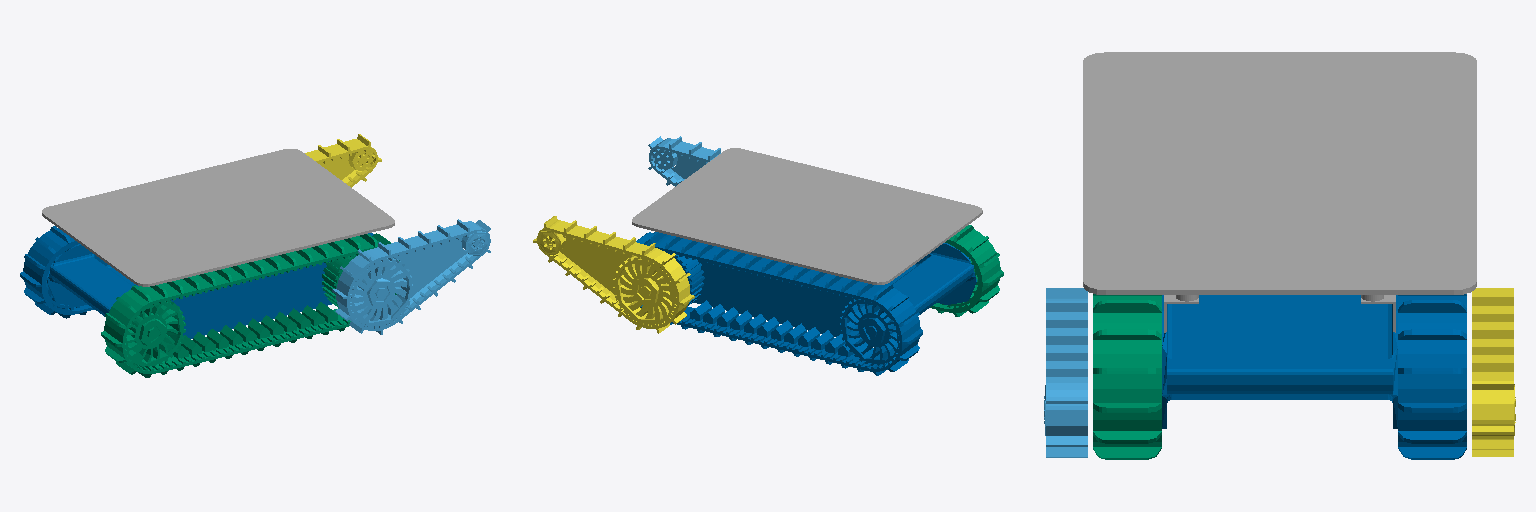
--- Render facts (derived) ---
3 views of the same robot in one strip: view 1: azimuth 30°, elevation 25°; view 2: azimuth 150°, elevation 25°; view 3: azimuth 270°, elevation 25° (orthographic).
Model GVR_Bot_RPLIDAR_Navigation_1 with 29 links and 28 joints (20 revolute, 8 fixed), rooted at base_link, posed every joint at zero.
Links seen in each view (by area): view 1: plexiglass_platform_0, gvr_bot_tread_22Z_0, gvr_bot_flipper_4Z_0, gvr_bot_body_0, gvr_bot_tread_13Z_0, gvr_bot_flipper_9Z_0; view 2: plexiglass_platform_0, gvr_bot_tread_13Z_0, gvr_bot_flipper_9Z_0, gvr_bot_body_0, gvr_bot_tread_22Z_0, gvr_bot_flipper_4Z_0; view 3: plexiglass_platform_0, gvr_bot_body_0, gvr_bot_tread_22Z_0, gvr_bot_tread_13Z_0, gvr_bot_flipper_4Z_0, gvr_bot_flipper_9Z_0.
Boxes of the visible links, x1,y1,x2,y2 form: plexiglass_platform_0: (42,149,394,286); gvr_bot_tread_22Z_0: (101,233,399,377); gvr_bot_flipper_4Z_0: (332,219,490,334); gvr_bot_body_0: (47,233,373,338); gvr_bot_tread_13Z_0: (20,226,94,318); gvr_bot_flipper_9Z_0: (305,134,381,187); plexiglass_platform_0: (632,148,982,284); gvr_bot_tread_13Z_0: (636,232,922,375); gvr_bot_flipper_9Z_0: (533,216,694,333); gvr_bot_body_0: (653,232,976,336); gvr_bot_tread_22Z_0: (930,225,1003,316); gvr_bot_flipper_4Z_0: (648,136,720,186); plexiglass_platform_0: (1083,52,1476,332); gvr_bot_body_0: (1162,295,1397,428); gvr_bot_tread_22Z_0: (1093,294,1161,459); gvr_bot_tread_13Z_0: (1398,294,1466,459); gvr_bot_flipper_4Z_0: (1044,288,1087,457); gvr_bot_flipper_9Z_0: (1472,288,1515,456).
Size in the robot's own frame: 0.8604 by 0.5081 by 0.2232 metres.
Meshes: 7 distinct files referenced, 6 mesh visuals loaded (6 binary STL); not drawn: 1 (reference not matched to a file when rendering).

robot.urdf — GVR_Bot_RPLIDAR_Navigation_1:
<?xml version="1.0" ?>
<robot name="GVR_Bot_RPLIDAR_Navigation_1">
  <joint name="base_link_to_gvr_bot_body_0" type="fixed">
    <parent link="base_link"/>
    <child link="gvr_bot_body_0"/>
  </joint>
  <joint name="gvr_bot_body_0_to_gvr_bot_flipper_9Z_0" type="fixed">
    <parent link="gvr_bot_body_0"/>
    <child link="gvr_bot_flipper_9Z_0"/>
    <origin rpy="1.93641940572 -4.62708953561e-14 1.57079632679" xyz="0.239 0.20706 0.0574455082287"/>
  </joint>
  <joint name="left1" type="revolute">
    <parent link="gvr_bot_flipper_9Z_0"/>
    <child link="rotational_cylinder_7Z_0"/>
    <origin rpy="-1.57079632679 0.943373860071 -1.57079632679" xyz="-3.40185110086e-15 0.13695163932 0.188853395724"/>
    <axis xyz="4.16719145039e-14 1.08266207812e-13 1.0"/>
    <dynamics damping="0" friction="0"/>
    <limit effort="200" lower="-2.14e9" upper="+2.14e9" velocity="100"/>
  </joint>
  <gazebo reference="left1">
    <implicitSpringDamper>True</implicitSpringDamper>
  </gazebo>
  <joint name="left4" type="revolute">
    <parent link="gvr_bot_flipper_9Z_0"/>
    <child link="rotational_cylinder_10Z_0"/>
    <origin rpy="-1.57079632679 0.943373860071 -1.57079632679" xyz="1.56319401867e-15 1.30332441096e-15 3.83606282885e-16"/>
    <axis xyz="2.10494321936e-14 5.34546963746e-14 1.0"/>
    <dynamics damping="0" friction="0"/>
    <limit effort="200" lower="-2.14e9" upper="+2.14e9" velocity="100"/>
  </joint>
  <gazebo reference="left4">
    <implicitSpringDamper>True</implicitSpringDamper>
  </gazebo>
  <joint name="left2" type="revolute">
    <parent link="gvr_bot_flipper_9Z_0"/>
    <child link="rotational_cylinder_6Z_0"/>
    <origin rpy="-1.57079632679 0.943373860071 -1.57079632679" xyz="-1.83632318499e-15 0.0937159856132 0.129232349496"/>
    <axis xyz="2.1233334186e-14 5.27683647955e-14 1.0"/>
    <dynamics damping="0" friction="0"/>
    <limit effort="200" lower="-2.14e9" upper="+2.14e9" velocity="100"/>
  </joint>
  <gazebo reference="left2">
    <implicitSpringDamper>True</implicitSpringDamper>
  </gazebo>
  <joint name="left3" type="revolute">
    <parent link="gvr_bot_flipper_9Z_0"/>
    <child link="rotational_cylinder_8Z_0"/>
    <origin rpy="-1.57079632679 0.943373860071 -1.57079632679" xyz="-1.42948459957e-16 0.0467498321858 0.0644670235538"/>
    <axis xyz="2.67239868192e-14 5.42395807345e-14 1.0"/>
    <dynamics damping="0" friction="0"/>
    <limit effort="200" lower="-2.14e9" upper="+2.14e9" velocity="100"/>
  </joint>
  <gazebo reference="left3">
    <implicitSpringDamper>True</implicitSpringDamper>
  </gazebo>
  <joint name="gvr_bot_body_0_to_gvr_bot_flipper_4Z_0" type="fixed">
    <parent link="gvr_bot_body_0"/>
    <child link="gvr_bot_flipper_4Z_0"/>
    <origin rpy="-0.681574472272 5.72650988307e-14 -1.57079632679" xyz="0.239 -0.20706 0.0574455082287"/>
  </joint>
  <joint name="right1" type="revolute">
    <parent link="gvr_bot_flipper_4Z_0"/>
    <child link="rotational_cylinder_2Z_0"/>
    <origin rpy="1.57079632679 0.943373860071 -1.57079632679" xyz="2.09154302387e-16 0.13695163932 0.188853395724"/>
    <axis xyz="-3.96031540416e-14 1.04018677886e-13 1.0"/>
    <dynamics damping="0" friction="0"/>
    <limit effort="200" lower="-2.14e9" upper="+2.14e9" velocity="100"/>
  </joint>
  <gazebo reference="right1">
    <implicitSpringDamper>True</implicitSpringDamper>
  </gazebo>
  <joint name="right3" type="revolute">
    <parent link="gvr_bot_flipper_4Z_0"/>
    <child link="rotational_cylinder_5Z_0"/>
    <origin rpy="1.57079632679 0.943373860071 -1.57079632679" xyz="3.46428265799e-15 0.0467498321858 0.0644670235538"/>
    <axis xyz="-2.05037539727e-14 5.47013569674e-14 1.0"/>
    <dynamics damping="0" friction="0"/>
    <limit effort="200" lower="-2.14e9" upper="+2.14e9" velocity="100"/>
  </joint>
  <gazebo reference="right3">
    <implicitSpringDamper>True</implicitSpringDamper>
  </gazebo>
  <joint name="right2" type="revolute">
    <parent link="gvr_bot_flipper_4Z_0"/>
    <child link="rotational_cylinder_1Z_0"/>
    <origin rpy="1.57079632679 0.943373860071 -1.57079632679" xyz="1.78712941076e-15 0.0937159856132 0.129232349496"/>
    <axis xyz="-2.56266026212e-14 5.18574778701e-14 1.0"/>
    <dynamics damping="0" friction="0"/>
    <limit effort="200" lower="-2.14e9" upper="+2.14e9" velocity="100"/>
  </joint>
  <gazebo reference="right2">
    <implicitSpringDamper>True</implicitSpringDamper>
  </gazebo>
  <joint name="right4" type="revolute">
    <parent link="gvr_bot_flipper_4Z_0"/>
    <child link="rotational_cylinder_3Z_0"/>
    <origin rpy="1.57079632679 0.943373860071 -1.57079632679" xyz="5.17275111633e-15 9.51947774283e-16 -9.47842953022e-16"/>
    <axis xyz="-2.28812763046e-14 5.25930858396e-14 1.0"/>
    <dynamics damping="0" friction="0"/>
    <limit effort="200" lower="-2.14e9" upper="+2.14e9" velocity="100"/>
  </joint>
  <gazebo reference="right4">
    <implicitSpringDamper>True</implicitSpringDamper>
  </gazebo>
  <joint name="gvr_bot_body_0_to_gvr_bot_tread_13Z_0" type="fixed">
    <parent link="gvr_bot_body_0"/>
    <child link="gvr_bot_tread_13Z_0"/>
    <origin rpy="1.57079632679 -0.0 1.57079632679" xyz="-0.01 0.12706 0.0625"/>
  </joint>
  <joint name="left8" type="revolute">
    <parent link="gvr_bot_tread_13Z_0"/>
    <child link="rotational_cylinder_14Z_0"/>
    <origin rpy="-3.14159265359 -1.57079632679 0.0" xyz="-1.42108547152e-17 0.0 8.70163887006e-34"/>
    <axis xyz="-6.12323399574e-17 -3.74939945665e-33 1.0"/>
    <dynamics damping="0" friction="0"/>
    <limit effort="200" lower="-2.14e9" upper="+2.14e9" velocity="100"/>
  </joint>
  <gazebo reference="left8">
    <implicitSpringDamper>True</implicitSpringDamper>
  </gazebo>
  <joint name="left6" type="revolute">
    <parent link="gvr_bot_tread_13Z_0"/>
    <child link="rotational_cylinder_11Z_0"/>
    <origin rpy="-3.14159265359 -1.57079632679 0.0" xyz="-1.42108547152e-17 -0.005 0.1"/>
    <axis xyz="-6.12323399574e-17 -3.74939945665e-33 1.0"/>
    <dynamics damping="0" friction="0"/>
    <limit effort="200" lower="-2.14e9" upper="+2.14e9" velocity="100"/>
  </joint>
  <gazebo reference="left6">
    <implicitSpringDamper>True</implicitSpringDamper>
  </gazebo>
  <joint name="left5" type="revolute">
    <parent link="gvr_bot_tread_13Z_0"/>
    <child link="rotational_cylinder_17Z_0"/>
    <origin rpy="-3.14159265359 -1.57079632679 0.0" xyz="-1.42108547152e-17 -0.005 0.249998846352"/>
    <axis xyz="-6.12323399574e-17 -3.74939945665e-33 1.0"/>
    <dynamics damping="0" friction="0"/>
    <limit effort="200" lower="-2.14e9" upper="+2.14e9" velocity="100"/>
  </joint>
  <gazebo reference="left5">
    <implicitSpringDamper>True</implicitSpringDamper>
  </gazebo>
  <joint name="left10" type="revolute">
    <parent link="gvr_bot_tread_13Z_0"/>
    <child link="rotational_cylinder_15Z_0"/>
    <origin rpy="-3.14159265359 -1.57079632679 0.0" xyz="-1.42108547152e-17 -0.005 -0.250000787001"/>
    <axis xyz="-6.12323399574e-17 -3.74939945665e-33 1.0"/>
    <dynamics damping="0" friction="0"/>
    <limit effort="200" lower="-2.14e9" upper="+2.14e9" velocity="100"/>
  </joint>
  <gazebo reference="left10">
    <implicitSpringDamper>True</implicitSpringDamper>
  </gazebo>
  <joint name="left7" type="revolute">
    <parent link="gvr_bot_tread_13Z_0"/>
    <child link="rotational_cylinder_12Z_0"/>
    <origin rpy="-3.14159265359 -1.57079632679 0.0" xyz="-1.42108547152e-17 -0.01 8.70163887006e-34"/>
    <axis xyz="-6.12323399574e-17 -3.74939945665e-33 1.0"/>
    <dynamics damping="0" friction="0"/>
    <limit effort="200" lower="-2.14e9" upper="+2.14e9" velocity="100"/>
  </joint>
  <gazebo reference="left7">
    <implicitSpringDamper>True</implicitSpringDamper>
  </gazebo>
  <joint name="left9" type="revolute">
    <parent link="gvr_bot_tread_13Z_0"/>
    <child link="rotational_cylinder_16Z_0"/>
    <origin rpy="-3.14159265359 -1.57079632679 0.0" xyz="-1.42108547152e-17 -0.005 -0.1"/>
    <axis xyz="-6.12323399574e-17 -3.74939945665e-33 1.0"/>
    <dynamics damping="0" friction="0"/>
    <limit effort="200" lower="-2.14e9" upper="+2.14e9" velocity="100"/>
  </joint>
  <gazebo reference="left9">
    <implicitSpringDamper>True</implicitSpringDamper>
  </gazebo>
  <joint name="gvr_bot_body_0_to_gvr_bot_tread_22Z_0" type="fixed">
    <parent link="gvr_bot_body_0"/>
    <child link="gvr_bot_tread_22Z_0"/>
    <origin rpy="1.57079632679 -0.0 -1.57079632679" xyz="-0.01 -0.12706 0.0625"/>
  </joint>
  <joint name="right7" type="revolute">
    <parent link="gvr_bot_tread_22Z_0"/>
    <child link="rotational_cylinder_20Z_0"/>
    <origin rpy="-3.14159265359 1.57079632679 0.0" xyz="-1.42108547152e-17 0.0 8.70163887006e-34"/>
    <axis xyz="-6.12323399574e-17 1.22464679915e-16 1.0"/>
    <dynamics damping="0" friction="0"/>
    <limit effort="200" lower="-2.14e9" upper="+2.14e9" velocity="100"/>
  </joint>
  <gazebo reference="right7">
    <implicitSpringDamper>True</implicitSpringDamper>
  </gazebo>
  <joint name="right5" type="revolute">
    <parent link="gvr_bot_tread_22Z_0"/>
    <child link="rotational_cylinder_18Z_0"/>
    <origin rpy="-1.22464679915e-16 -1.57079632679 0.0" xyz="-1.42108547152e-17 -0.005 -0.250000787001"/>
    <axis xyz="6.12323399574e-17 -1.22464679915e-16 1.0"/>
    <dynamics damping="0" friction="0"/>
    <limit effort="200" lower="-2.14e9" upper="+2.14e9" velocity="100"/>
  </joint>
  <gazebo reference="right5">
    <implicitSpringDamper>True</implicitSpringDamper>
  </gazebo>
  <joint name="right6" type="revolute">
    <parent link="gvr_bot_tread_22Z_0"/>
    <child link="rotational_cylinder_21Z_0"/>
    <origin rpy="-3.14159265359 1.57079632679 0.0" xyz="-1.42108547152e-17 -0.005 -0.1"/>
    <axis xyz="-6.12323399574e-17 1.22464679915e-16 1.0"/>
    <dynamics damping="0" friction="0"/>
    <limit effort="200" lower="-2.14e9" upper="+2.14e9" velocity="100"/>
  </joint>
  <gazebo reference="right6">
    <implicitSpringDamper>True</implicitSpringDamper>
  </gazebo>
  <joint name="right10" type="revolute">
    <parent link="gvr_bot_tread_22Z_0"/>
    <child link="rotational_cylinder_19Z_0"/>
    <origin rpy="-1.22464679915e-16 -1.57079632679 0.0" xyz="-1.42108547152e-17 -0.005 0.249998846352"/>
    <axis xyz="6.12323399574e-17 -1.22464679915e-16 1.0"/>
    <dynamics damping="0" friction="0"/>
    <limit effort="200" lower="-2.14e9" upper="+2.14e9" velocity="100"/>
  </joint>
  <gazebo reference="right10">
    <implicitSpringDamper>True</implicitSpringDamper>
  </gazebo>
  <joint name="right8" type="revolute">
    <parent link="gvr_bot_tread_22Z_0"/>
    <child link="rotational_cylinder_24Z_0"/>
    <origin rpy="-3.14159265359 1.57079632679 0.0" xyz="-1.42108547152e-17 -0.01 8.70163887006e-34"/>
    <axis xyz="-6.12323399574e-17 1.22464679915e-16 1.0"/>
    <dynamics damping="0" friction="0"/>
    <limit effort="200" lower="-2.14e9" upper="+2.14e9" velocity="100"/>
  </joint>
  <gazebo reference="right8">
    <implicitSpringDamper>True</implicitSpringDamper>
  </gazebo>
  <joint name="right9" type="revolute">
    <parent link="gvr_bot_tread_22Z_0"/>
    <child link="rotational_cylinder_23Z_0"/>
    <origin rpy="-3.14159265359 1.57079632679 0.0" xyz="-1.42108547152e-17 -0.005 0.1"/>
    <axis xyz="-6.12323399574e-17 1.22464679915e-16 1.0"/>
    <dynamics damping="0" friction="0"/>
    <limit effort="200" lower="-2.14e9" upper="+2.14e9" velocity="100"/>
  </joint>
  <gazebo reference="right9">
    <implicitSpringDamper>True</implicitSpringDamper>
  </gazebo>
  <joint name="gvr_bot_body_0_to_plexiglass_platform_0" type="fixed">
    <parent link="gvr_bot_body_0"/>
    <child link="plexiglass_platform_0"/>
    <origin rpy="0.0 -6.12323399574e-17 0.0" xyz="1e-23 1e-23 0.12"/>
  </joint>
  <joint name="plexiglass_platform_0_to_rplidar_a2_0" type="fixed">
    <parent link="plexiglass_platform_0"/>
    <child link="rplidar_a2_0"/>
    <origin rpy="6.12323399574e-17 -0.0 1.57079632679" xyz="0.26 -2.6645452591e-18 0.066"/>
  </joint>
  <link name="base_link">
    <CyPhy2CAD>
      <CADAssembly_metrics>
        <RotationMatrix>
          <Row>
            <Column Value="1.0"/>
            <Column Value="0.0"/>
            <Column Value="0.0"/>
          </Row>
          <Row>
            <Column Value="0.0"/>
            <Column Value="1.0"/>
            <Column Value="0.0"/>
          </Row>
          <Row>
            <Column Value="0.0"/>
            <Column Value="0.0"/>
            <Column Value="1.0"/>
          </Row>
        </RotationMatrix>
        <Translation X="1e-20" Y="1e-20" Z="1e-20"/>
      </CADAssembly_metrics>
    </CyPhy2CAD>
  </link>
  <link name="rotational_cylinder_24Z_0">
    <collision>
      <origin rpy="0 0 0" xyz="0.0 0.0 -0.04125"/>
      <geometry>
        <cylinder length="0.0825" radius="0.085"/>
      </geometry>
    </collision>
    <inertial>
      <origin rpy="0 0 0" xyz="0.0 0.0 -0.04125"/>
      <mass value="0.09999606949569155"/>
      <inertia ixx="0.00023733442692" ixy="0.0" ixz="0.0" iyy="0.000237334415467" iyz="0.0" izz="0.000361235801053"/>
    </inertial>
  </link>
  <gazebo reference="rotational_cylinder_24Z_0">
    <selfCollide>False</selfCollide>
    <material>Gazebo/Grey</material>
    <mu1>10</mu1>
    <mu2>10</mu2>
    <kp>1e+08</kp>
    <kd>1</kd>
    <minDepth>0.001</minDepth>
    <maxVel>1</maxVel>
  </gazebo>
  <link name="rotational_cylinder_20Z_0">
    <collision>
      <origin rpy="0 0 0" xyz="8.70163887006e-34 -1.74032777401e-33 -0.04125"/>
      <geometry>
        <cylinder length="0.0825" radius="0.085"/>
      </geometry>
    </collision>
    <inertial>
      <origin rpy="0 0 0" xyz="8.70163887006e-34 -1.74032777401e-33 -0.04125"/>
      <mass value="0.09999606949569155"/>
      <inertia ixx="0.00023733442692" ixy="0.0" ixz="0.0" iyy="0.000237334415467" iyz="0.0" izz="0.000361235801053"/>
    </inertial>
  </link>
  <gazebo reference="rotational_cylinder_20Z_0">
    <selfCollide>False</selfCollide>
    <material>Gazebo/Grey</material>
    <mu1>10</mu1>
    <mu2>10</mu2>
    <kp>1e+08</kp>
    <kd>1</kd>
    <minDepth>0.001</minDepth>
    <maxVel>1</maxVel>
  </gazebo>
  <link name="rotational_cylinder_16Z_0">
    <collision>
      <origin rpy="0 0 0" xyz="0.0 0.0 0.04125"/>
      <geometry>
        <cylinder length="0.0825" radius="0.085"/>
      </geometry>
    </collision>
    <inertial>
      <origin rpy="0 0 0" xyz="0.0 0.0 0.04125"/>
      <mass value="0.09999606949569155"/>
      <inertia ixx="0.00023733442692" ixy="0.0" ixz="0.0" iyy="0.000237334415467" iyz="0.0" izz="0.000361235801053"/>
    </inertial>
  </link>
  <gazebo reference="rotational_cylinder_16Z_0">
    <selfCollide>False</selfCollide>
    <material>Gazebo/Grey</material>
    <mu1>10</mu1>
    <mu2>10</mu2>
    <kp>1e+08</kp>
    <kd>1</kd>
    <minDepth>0.001</minDepth>
    <maxVel>1</maxVel>
  </gazebo>
  <link name="gvr_bot_body_0">
    <visual>
      <origin rpy="0 0 0" xyz="1e-23 1e-23 1e-23"/>
      <geometry>
        <mesh filename="package://gvr_bot_rplidar_navigation_generated_urdf_2019_7_25t16_21_28/meshes/gvr_bot_body_prt.stl" scale="0.001 0.001 0.001"/>
      </geometry>
    </visual>
    <collision>
      <origin rpy="0 0 0" xyz="1e-23 1e-23 1e-23"/>
      <geometry>
        <mesh filename="package://gvr_bot_rplidar_navigation_generated_urdf_2019_7_25t16_21_28/meshes/gvr_bot_body_prt.stl" scale="0.001 0.001 0.001"/>
      </geometry>
    </collision>
    <inertial>
      <origin rpy="0 0 0" xyz="0.0162648644683 1e-23 0.0508416849457"/>
      <mass value="25.048697501394287"/>
      <inertia ixx="0.162838436291" ixy="0.0" ixz="-0.0134083347617" iyy="0.743638566943" iyz="0.0" izz="0.865993591962"/>
    </inertial>
  </link>
  <gazebo reference="gvr_bot_body_0">
    <selfCollide>True</selfCollide>
    <material>Gazebo/Grey</material>
    <mu1>0.05</mu1>
    <mu2>0.05</mu2>
    <kp>10000000</kp>
    <kd>1</kd>
    <minDepth>0.0005</minDepth>
    <maxVel>100</maxVel>
  </gazebo>
  <link name="rotational_cylinder_23Z_0">
    <collision>
      <origin rpy="0 0 0" xyz="0.0 0.0 -0.04125"/>
      <geometry>
        <cylinder length="0.0825" radius="0.085"/>
      </geometry>
    </collision>
    <inertial>
      <origin rpy="0 0 0" xyz="0.0 0.0 -0.04125"/>
      <mass value="0.09999606949569155"/>
      <inertia ixx="0.00023733442692" ixy="0.0" ixz="0.0" iyy="0.000237334415467" iyz="0.0" izz="0.000361235801053"/>
    </inertial>
  </link>
  <gazebo reference="rotational_cylinder_23Z_0">
    <selfCollide>False</selfCollide>
    <material>Gazebo/Grey</material>
    <mu1>10</mu1>
    <mu2>10</mu2>
    <kp>1e+08</kp>
    <kd>1</kd>
    <minDepth>0.001</minDepth>
    <maxVel>1</maxVel>
  </gazebo>
  <link name="rotational_cylinder_12Z_0">
    <collision>
      <origin rpy="0 0 0" xyz="0.0 0.0 0.04125"/>
      <geometry>
        <cylinder length="0.0825" radius="0.085"/>
      </geometry>
    </collision>
    <inertial>
      <origin rpy="0 0 0" xyz="0.0 0.0 0.04125"/>
      <mass value="0.09999606949569155"/>
      <inertia ixx="0.00023733442692" ixy="0.0" ixz="0.0" iyy="0.000237334415467" iyz="0.0" izz="0.000361235801053"/>
    </inertial>
  </link>
  <gazebo reference="rotational_cylinder_12Z_0">
    <selfCollide>False</selfCollide>
    <material>Gazebo/Grey</material>
    <mu1>10</mu1>
    <mu2>10</mu2>
    <kp>1e+08</kp>
    <kd>1</kd>
    <minDepth>0.001</minDepth>
    <maxVel>1</maxVel>
  </gazebo>
  <link name="rotational_cylinder_7Z_0">
    <collision>
      <origin rpy="0 0 0" xyz="-4.87161526035e-16 1.5434930097e-14 0.025"/>
      <geometry>
        <cylinder length="0.05" radius="0.035"/>
      </geometry>
    </collision>
    <inertial>
      <origin rpy="0 0 0" xyz="-4.87161526035e-16 1.5434930097e-14 0.025"/>
      <mass value="0.010275364171728817"/>
      <inertia ixx="5.28752782089e-06" ixy="0.0" ixz="0.0" iyy="5.28753447251e-06" iyz="0.0" izz="6.29366055518e-06"/>
    </inertial>
  </link>
  <gazebo reference="rotational_cylinder_7Z_0">
    <selfCollide>False</selfCollide>
    <material>Gazebo/Grey</material>
    <mu1>0.1</mu1>
    <mu2>0.1</mu2>
    <kp>1e+08</kp>
    <kd>1</kd>
    <minDepth>0</minDepth>
    <maxVel>100</maxVel>
  </gazebo>
  <link name="rotational_cylinder_6Z_0">
    <collision>
      <origin rpy="0 0 0" xyz="7.86534465657e-16 3.65339657213e-15 0.025"/>
      <geometry>
        <cylinder length="0.05" radius="0.05"/>
      </geometry>
    </collision>
    <inertial>
      <origin rpy="0 0 0" xyz="7.86534465657e-16 3.65339657213e-15 0.025"/>
      <mass value="0.020970130962711872"/>
      <inertia ixx="1.74751095511e-05" ixy="0.0" ixz="0.0" iyy="1.74751087201e-05" iyz="0.0" izz="2.62126637034e-05"/>
    </inertial>
  </link>
  <gazebo reference="rotational_cylinder_6Z_0">
    <selfCollide>False</selfCollide>
    <material>Gazebo/Grey</material>
    <mu1>10</mu1>
    <mu2>10</mu2>
    <kp>1e+08</kp>
    <kd>1</kd>
    <minDepth>0.001</minDepth>
    <maxVel>1</maxVel>
  </gazebo>
  <link name="rotational_cylinder_5Z_0">
    <collision>
      <origin rpy="0 0 0" xyz="3.23931577958e-16 -1.42855521244e-15 -0.025"/>
      <geometry>
        <cylinder length="0.05" radius="0.067"/>
      </geometry>
    </collision>
    <inertial>
      <origin rpy="0 0 0" xyz="3.23931577958e-16 -1.42855521244e-15 -0.025"/>
      <mass value="0.037653967156645436"/>
      <inertia ixx="5.01017424722e-05" ixy="0.0" ixz="0.0" iyy="5.01017397928e-05" iyz="0.0" izz="8.45143292831e-05"/>
    </inertial>
  </link>
  <gazebo reference="rotational_cylinder_5Z_0">
    <selfCollide>False</selfCollide>
    <material>Gazebo/Grey</material>
    <mu1>10</mu1>
    <mu2>10</mu2>
    <kp>1e+08</kp>
    <kd>1</kd>
    <minDepth>0.001</minDepth>
    <maxVel>1</maxVel>
  </gazebo>
  <link name="rotational_cylinder_15Z_0">
    <collision>
      <origin rpy="0 0 0" xyz="-8.70163887006e-34 -5.32821709478e-50 0.04125"/>
      <geometry>
        <cylinder length="0.0825" radius="0.085"/>
      </geometry>
    </collision>
    <inertial>
      <origin rpy="0 0 0" xyz="-8.70163887006e-34 -5.32821709478e-50 0.04125"/>
      <mass value="0.09999606949569155"/>
      <inertia ixx="0.00023733442692" ixy="0.0" ixz="0.0" iyy="0.000237334415467" iyz="0.0" izz="0.000361235801053"/>
    </inertial>
  </link>
  <gazebo reference="rotational_cylinder_15Z_0">
    <selfCollide>False</selfCollide>
    <material>Gazebo/Grey</material>
    <mu1>10</mu1>
    <mu2>10</mu2>
    <kp>1e+08</kp>
    <kd>1</kd>
    <minDepth>0.001</minDepth>
    <maxVel>1</maxVel>
  </gazebo>
  <link name="rotational_cylinder_11Z_0">
    <collision>
      <origin rpy="0 0 0" xyz="0.0 0.0 0.04125"/>
      <geometry>
        <cylinder length="0.0825" radius="0.085"/>
      </geometry>
    </collision>
    <inertial>
      <origin rpy="0 0 0" xyz="0.0 0.0 0.04125"/>
      <mass value="0.09999606949569155"/>
      <inertia ixx="0.00023733442692" ixy="0.0" ixz="0.0" iyy="0.000237334415467" iyz="0.0" izz="0.000361235801053"/>
    </inertial>
  </link>
  <gazebo reference="rotational_cylinder_11Z_0">
    <selfCollide>False</selfCollide>
    <material>Gazebo/Grey</material>
    <mu1>10</mu1>
    <mu2>10</mu2>
    <kp>1e+08</kp>
    <kd>1</kd>
    <minDepth>0.001</minDepth>
    <maxVel>1</maxVel>
  </gazebo>
  <link name="rotational_cylinder_1Z_0">
    <collision>
      <origin rpy="0 0 0" xyz="5.20207006246e-17 -6.33396108434e-16 -0.025"/>
      <geometry>
        <cylinder length="0.05" radius="0.05"/>
      </geometry>
    </collision>
    <inertial>
      <origin rpy="0 0 0" xyz="5.20207006246e-17 -6.33396108434e-16 -0.025"/>
      <mass value="0.020970130962711872"/>
      <inertia ixx="1.74751095511e-05" ixy="0.0" ixz="0.0" iyy="1.74751087201e-05" iyz="0.0" izz="2.62126637034e-05"/>
    </inertial>
  </link>
  <gazebo reference="rotational_cylinder_1Z_0">
    <selfCollide>False</selfCollide>
    <material>Gazebo/Grey</material>
    <mu1>10</mu1>
    <mu2>10</mu2>
    <kp>1e+08</kp>
    <kd>1</kd>
    <minDepth>0.001</minDepth>
    <maxVel>1</maxVel>
  </gazebo>
  <link name="rotational_cylinder_17Z_0">
    <collision>
      <origin rpy="0 0 0" xyz="8.70163887006e-34 5.32821709478e-50 0.04125"/>
      <geometry>
        <cylinder length="0.0825" radius="0.085"/>
      </geometry>
    </collision>
    <inertial>
      <origin rpy="0 0 0" xyz="8.70163887006e-34 5.32821709478e-50 0.04125"/>
      <mass value="0.09999606949569155"/>
      <inertia ixx="0.00023733442692" ixy="0.0" ixz="0.0" iyy="0.000237334415467" iyz="0.0" izz="0.000361235801053"/>
    </inertial>
  </link>
  <gazebo reference="rotational_cylinder_17Z_0">
    <selfCollide>False</selfCollide>
    <material>Gazebo/Grey</material>
    <mu1>10</mu1>
    <mu2>10</mu2>
    <kp>1e+08</kp>
    <kd>1</kd>
    <minDepth>0.001</minDepth>
    <maxVel>1</maxVel>
  </gazebo>
  <link name="rotational_cylinder_10Z_0">
    <collision>
      <origin rpy="0 0 0" xyz="8.7651440623e-16 3.42739991492e-15 0.025"/>
      <geometry>
        <cylinder length="0.05" radius="0.085"/>
      </geometry>
    </collision>
    <inertial>
      <origin rpy="0 0 0" xyz="8.7651440623e-16 3.42739991492e-15 0.025"/>
      <mass value="0.0606036784822373"/>
      <inertia ixx="0.000122091164079" ixy="0.0" ixz="0.0" iyy="0.000122091157139" iyz="0.0" izz="0.000218930788517"/>
    </inertial>
  </link>
  <gazebo reference="rotational_cylinder_10Z_0">
    <selfCollide>False</selfCollide>
    <material>Gazebo/Grey</material>
    <mu1>10</mu1>
    <mu2>10</mu2>
    <kp>1e+08</kp>
    <kd>1</kd>
    <minDepth>0.001</minDepth>
    <maxVel>1</maxVel>
  </gazebo>
  <link name="plexiglass_platform_0">
    <visual>
      <origin rpy="0 0 0" xyz="-0.0974742239804 0.00581091197438 0.0375579898642"/>
      <geometry>
        <mesh filename="package://gvr_bot_rplidar_navigation_generated_urdf_2019_7_25t16_21_28/meshes/plexiglass_platform_prt.stl" scale="0.001 0.001 0.001"/>
      </geometry>
    </visual>
    <collision>
      <origin rpy="0 0 0" xyz="-0.0974742239804 0.00581091197438 0.0375579898642"/>
      <geometry>
        <mesh filename="package://gvr_bot_rplidar_navigation_generated_urdf_2019_7_25t16_21_28/meshes/plexiglass_platform_prt.stl" scale="0.001 0.001 0.001"/>
      </geometry>
    </collision>
    <inertial>
      <origin rpy="0 0 0" xyz="0.00312874244791 4.23675569412e-06 0.0579997476994"/>
      <mass value="2.6640368579972415"/>
      <inertia ixx="0.0396059563947" ixy="0.0" ixz="0.00022940388755" iyy="0.0805502430789" iyz="0.0" izz="0.119329632902"/>
    </inertial>
  </link>
  <gazebo reference="plexiglass_platform_0">
    <selfCollide>True</selfCollide>
    <material>Gazebo/GreyTransparent</material>
    <mu1>0.05</mu1>
    <mu2>0.05</mu2>
    <kp>10000000</kp>
    <kd>1</kd>
    <minDepth>0</minDepth>
    <maxVel>100</maxVel>
  </gazebo>
  <link name="rotational_cylinder_3Z_0">
    <collision>
      <origin rpy="0 0 0" xyz="1.94936111916e-16 -7.27511473902e-16 -0.025"/>
      <geometry>
        <cylinder length="0.05" radius="0.085"/>
      </geometry>
    </collision>
    <inertial>
      <origin rpy="0 0 0" xyz="1.94936111916e-16 -7.27511473902e-16 -0.025"/>
      <mass value="0.0606036784822373"/>
      <inertia ixx="0.000122091164079" ixy="0.0" ixz="0.0" iyy="0.000122091157139" iyz="0.0" izz="0.000218930788517"/>
    </inertial>
  </link>
  <gazebo reference="rotational_cylinder_3Z_0">
    <selfCollide>False</selfCollide>
    <material>Gazebo/Grey</material>
    <mu1>10</mu1>
    <mu2>10</mu2>
    <kp>1e+08</kp>
    <kd>1</kd>
    <minDepth>0.001</minDepth>
    <maxVel>1</maxVel>
  </gazebo>
  <link name="rotational_cylinder_19Z_0">
    <collision>
      <origin rpy="0 0 0" xyz="8.70163887006e-34 -1.74032777401e-33 -0.04125"/>
      <geometry>
        <cylinder length="0.0825" radius="0.085"/>
      </geometry>
    </collision>
    <inertial>
      <origin rpy="0 0 0" xyz="8.70163887006e-34 -1.74032777401e-33 -0.04125"/>
      <mass value="0.09999606949569155"/>
      <inertia ixx="0.00023733442692" ixy="0.0" ixz="0.0" iyy="0.000237334415467" iyz="0.0" izz="0.000361235801053"/>
    </inertial>
  </link>
  <gazebo reference="rotational_cylinder_19Z_0">
    <selfCollide>False</selfCollide>
    <material>Gazebo/Grey</material>
    <mu1>10</mu1>
    <mu2>10</mu2>
    <kp>1e+08</kp>
    <kd>1</kd>
    <minDepth>0.001</minDepth>
    <maxVel>1</maxVel>
  </gazebo>
  <link name="gvr_bot_tread_22Z_0">
    <visual>
      <origin rpy="0 0 0" xyz="-1.42108547152e-17 0.0 0.00687141668333"/>
      <geometry>
        <mesh filename="package://gvr_bot_rplidar_navigation_generated_urdf_2019_7_25t16_21_28/meshes/gvr_bot_tread_22z_prt.stl" scale="0.001 0.001 0.001"/>
      </geometry>
    </visual>
    <collision>
      <origin rpy="0 0 0" xyz="-1.42108547152e-17 0.0 0.00687141668333"/>
      <geometry>
        <box size="0.01 0.01 0.01"/>
      </geometry>
    </collision>
    <inertial>
      <origin rpy="0 0 0" xyz="0.0343748145549 -0.0143580795047 -0.000521482183074"/>
      <mass value="0.001"/>
      <inertia ixx="1.66e-8" ixy="0" ixz="0" iyy="1.66e-8" iyz="0" izz="1.66e-8"/>
    </inertial>
  </link>
  <gazebo reference="gvr_bot_tread_22Z_0">
    <selfCollide>true</selfCollide>
    <material>Gazebo/Black</material>
    <mu1>0.1</mu1>
    <mu2>0.1</mu2>
    <kp>1000000</kp>
    <kd>1</kd>
    <minDepth>0.001</minDepth>
    <maxVel>100</maxVel>
  </gazebo>
  <link name="rotational_cylinder_18Z_0">
    <collision>
      <origin rpy="0 0 0" xyz="-8.70163887006e-34 1.74032777401e-33 -0.04125"/>
      <geometry>
        <cylinder length="0.0825" radius="0.085"/>
      </geometry>
    </collision>
    <inertial>
      <origin rpy="0 0 0" xyz="-8.70163887006e-34 1.74032777401e-33 -0.04125"/>
      <mass value="0.09999606949569155"/>
      <inertia ixx="0.00023733442692" ixy="0.0" ixz="0.0" iyy="0.000237334415467" iyz="0.0" izz="0.000361235801053"/>
    </inertial>
  </link>
  <gazebo reference="rotational_cylinder_18Z_0">
    <selfCollide>False</selfCollide>
    <material>Gazebo/Grey</material>
    <mu1>10</mu1>
    <mu2>10</mu2>
    <kp>1e+08</kp>
    <kd>1</kd>
    <minDepth>0.001</minDepth>
    <maxVel>1</maxVel>
  </gazebo>
  <link name="gvr_bot_tread_13Z_0">
    <visual>
      <origin rpy="0 0 0" xyz="-1.42108547152e-17 0.0 0.00687141668333"/>
      <geometry>
        <mesh filename="package://gvr_bot_rplidar_navigation_generated_urdf_2019_7_25t16_21_28/meshes/gvr_bot_tread_13z_prt.stl" scale="0.001 0.001 0.001"/>
      </geometry>
    </visual>
    <collision>
      <origin rpy="0 0 0" xyz="-1.42108547152e-17 0.0 0.00687141668333"/>
      <geometry>
        <box size="0.01 0.01 0.01"/>
      </geometry>
    </collision>
    <inertial>
      <origin rpy="0 0 0" xyz="0.0343748145549 -0.0143580795047 -0.000521482183074"/>
      <mass value="0.001"/>
      <inertia ixx="1.66e-8" ixy="0" ixz="0" iyy="1.66e-8" iyz="0" izz="1.66e-8"/>
    </inertial>
  </link>
  <gazebo reference="gvr_bot_tread_13Z_0">
    <selfCollide>true</selfCollide>
    <material>Gazebo/Black</material>
    <mu1>0.1</mu1>
    <mu2>0.1</mu2>
    <kp>1000000</kp>
    <kd>1</kd>
    <minDepth>0.001</minDepth>
    <maxVel>100</maxVel>
  </gazebo>
  <link name="rotational_cylinder_2Z_0">
    <collision>
      <origin rpy="0 0 0" xyz="-1.03720723699e-15 3.87091010642e-15 -0.025"/>
      <geometry>
        <cylinder length="0.05" radius="0.035"/>
      </geometry>
    </collision>
    <inertial>
      <origin rpy="0 0 0" xyz="-1.03720723699e-15 3.87091010642e-15 -0.025"/>
      <mass value="0.010275364171728817"/>
      <inertia ixx="5.28752782089e-06" ixy="0.0" ixz="0.0" iyy="5.28753447251e-06" iyz="0.0" izz="6.29366055518e-06"/>
    </inertial>
  </link>
  <gazebo reference="rotational_cylinder_2Z_0">
    <selfCollide>False</selfCollide>
    <material>Gazebo/Grey</material>
    <mu1>0.1</mu1>
    <mu2>0.1</mu2>
    <kp>1e+08</kp>
    <kd>1</kd>
    <minDepth>0</minDepth>
    <maxVel>100</maxVel>
  </gazebo>
  <link name="rotational_cylinder_21Z_0">
    <collision>
      <origin rpy="0 0 0" xyz="0.0 0.0 -0.04125"/>
      <geometry>
        <cylinder length="0.0825" radius="0.085"/>
      </geometry>
    </collision>
    <inertial>
      <origin rpy="0 0 0" xyz="0.0 0.0 -0.04125"/>
      <mass value="0.09999606949569155"/>
      <inertia ixx="0.00023733442692" ixy="0.0" ixz="0.0" iyy="0.000237334415467" iyz="0.0" izz="0.000361235801053"/>
    </inertial>
  </link>
  <gazebo reference="rotational_cylinder_21Z_0">
    <selfCollide>False</selfCollide>
    <material>Gazebo/Grey</material>
    <mu1>10</mu1>
    <mu2>10</mu2>
    <kp>1e+08</kp>
    <kd>1</kd>
    <minDepth>0.001</minDepth>
    <maxVel>1</maxVel>
  </gazebo>
  <link name="rotational_cylinder_14Z_0">
    <collision>
      <origin rpy="0 0 0" xyz="0.0 0.0 0.04125"/>
      <geometry>
        <cylinder length="0.0825" radius="0.085"/>
      </geometry>
    </collision>
    <inertial>
      <origin rpy="0 0 0" xyz="0.0 0.0 0.04125"/>
      <mass value="0.09999606949569155"/>
      <inertia ixx="0.00023733442692" ixy="0.0" ixz="0.0" iyy="0.000237334415467" iyz="0.0" izz="0.000361235801053"/>
    </inertial>
  </link>
  <gazebo reference="rotational_cylinder_14Z_0">
    <selfCollide>False</selfCollide>
    <material>Gazebo/Grey</material>
    <mu1>10</mu1>
    <mu2>10</mu2>
    <kp>1e+08</kp>
    <kd>1</kd>
    <minDepth>0.001</minDepth>
    <maxVel>1</maxVel>
  </gazebo>
  <link name="rplidar_a2_0">
    <visual>
      <origin rpy="0 0 0" xyz="4.4408920985e-18 0.0 0.0"/>
      <geometry>
        <mesh filename="package://gvr_bot_rplidar_navigation_generated_urdf_2019_7_25t16_21_28/meshes/rplidar_a2_asm.stl" scale="0.001 0.001 0.001"/>
      </geometry>
    </visual>
    <collision>
      <origin rpy="0 0 0" xyz="4.4408920985e-18 0.0 0.0"/>
      <geometry>
        <mesh filename="package://gvr_bot_rplidar_navigation_generated_urdf_2019_7_25t16_21_28/meshes/rplidar_a2_asm.stl" scale="0.001 0.001 0.001"/>
      </geometry>
    </collision>
    <inertial>
      <origin rpy="0 0 0" xyz="-0.000130340672722 -0.00136533102019 0.0205166626404"/>
      <mass value="0.18821621589950202"/>
      <inertia ixx="8.13361235458e-05" ixy="-2.24566593777e-07" ixz="7.5260897031e-09" iyy="7.83925013627e-05" iyz="2.44355055998e-06" izz="0.000134676697915"/>
    </inertial>
  </link>
  <gazebo reference="rplidar_a2_0">
    <selfCollide>True</selfCollide>
    <material>Gazebo/Black</material>
    <mu1>0.05</mu1>
    <mu2>0.05</mu2>
    <kp>10000000</kp>
    <kd>1</kd>
    <minDepth>0.0005</minDepth>
    <maxVel>100</maxVel>
  </gazebo>
  <link name="gvr_bot_flipper_4Z_0">
    <visual>
      <origin rpy="0 0 0" xyz="0.0237972102461 -0.00201595867467 -0.000117379872234"/>
      <geometry>
        <mesh filename="package://gvr_bot_rplidar_navigation_generated_urdf_2019_7_25t16_21_28/meshes/gvr_bot_flipper_4z_prt.stl" scale="0.001 0.001 0.001"/>
      </geometry>
    </visual>
    <collision>
      <origin rpy="0 0 0" xyz="0.0237972102461 -0.00201595867467 -0.000117379872234"/>
      <geometry>
        <box size="0.01 0.01 0.01"/>
      </geometry>
    </collision>
    <inertial>
      <origin rpy="0 0 0" xyz="0.0234187179527 0.0315726270595 0.0435260789695"/>
      <mass value="0.001"/>
      <inertia ixx="1.66e-8" ixy="0" ixz="0" iyy="1.66e-8" iyz="0" izz="1.66e-8"/>
    </inertial>
  </link>
  <gazebo reference="gvr_bot_flipper_4Z_0">
    <selfCollide>true</selfCollide>
    <material>Gazebo/Black</material>
    <mu1>0.1</mu1>
    <mu2>0.1</mu2>
    <kp>1000000</kp>
    <kd>1</kd>
    <minDepth>0.001</minDepth>
    <maxVel>100</maxVel>
  </gazebo>
  <link name="rotational_cylinder_8Z_0">
    <collision>
      <origin rpy="0 0 0" xyz="8.26728832599e-16 3.72301525785e-15 0.025"/>
      <geometry>
        <cylinder length="0.05" radius="0.067"/>
      </geometry>
    </collision>
    <inertial>
      <origin rpy="0 0 0" xyz="8.26728832599e-16 3.72301525785e-15 0.025"/>
      <mass value="0.037653967156645436"/>
      <inertia ixx="5.01017424722e-05" ixy="0.0" ixz="0.0" iyy="5.01017397928e-05" iyz="0.0" izz="8.45143292831e-05"/>
    </inertial>
  </link>
  <gazebo reference="rotational_cylinder_8Z_0">
    <selfCollide>False</selfCollide>
    <material>Gazebo/Grey</material>
    <mu1>10</mu1>
    <mu2>10</mu2>
    <kp>1e+08</kp>
    <kd>1</kd>
    <minDepth>0.001</minDepth>
    <maxVel>1</maxVel>
  </gazebo>
  <link name="gvr_bot_flipper_9Z_0">
    <visual>
      <origin rpy="0 0 0" xyz="0.0237972102461 -0.00201595867467 -0.000117379872232"/>
      <geometry>
        <mesh filename="package://gvr_bot_rplidar_navigation_generated_urdf_2019_7_25t16_21_28/meshes/gvr_bot_flipper_9z_prt.stl" scale="0.001 0.001 0.001"/>
      </geometry>
    </visual>
    <collision>
      <origin rpy="0 0 0" xyz="0.0237972102461 -0.00201595867467 -0.000117379872232"/>
      <geometry>
        <box size="0.01 0.01 0.01"/>
      </geometry>
    </collision>
    <inertial>
      <origin rpy="0 0 0" xyz="0.0234187179527 0.0315726270595 0.0435260789695"/>
      <mass value="0.001"/>
      <inertia ixx="1.66e-8" ixy="0" ixz="0" iyy="1.66e-8" iyz="0" izz="1.66e-8"/>
    </inertial>
  </link>
  <gazebo reference="gvr_bot_flipper_9Z_0">
    <selfCollide>true</selfCollide>
    <material>Gazebo/Black</material>
    <mu1>0.1</mu1>
    <mu2>0.1</mu2>
    <kp>1000000</kp>
    <kd>1</kd>
    <minDepth>0.001</minDepth>
    <maxVel>100</maxVel>
  </gazebo>
  <gazebo>
    <plugin filename="libdiffdrive_plugin_multi_wheel.so" name="diffdrive_plugin_multiwheel">
      <alwaysOn>true</alwaysOn>
      <updateRate>50.0</updateRate>
      <leftJoints>left1 left2 left3 left4 left5 left6 left7 left8 left9 left10</leftJoints>
      <rightJoints>right1 right2 right3 right4 right5 right6 right7 right8 right9 right10</rightJoints>
      <wheelSeparation>0.3</wheelSeparation>
      <wheelDiameter>0.07 0.1 0.124 0.17 0.17 0.17 0.17 0.17 0.17 0.17</wheelDiameter>
      <torque>1000</torque>
      <robotNamespace>/</robotNamespace>
      <robotBaseFrame>base_link</robotBaseFrame>
      <commandTopic>topic_4</commandTopic>
      <publishOdometryTf>false</publishOdometryTf>
      <publishOdometryMsg>false</publishOdometryMsg>
      <odometryTopic>odom</odometryTopic>
    </plugin>
  </gazebo>
  <joint name="rplidar_a2_0_to_scan" type="fixed">
    <parent link="rplidar_a2_0"/>
    <child link="rplidar_a2_0_scan"/>
    <origin rpy="0 0 0" xyz="0 0 0.03075"/>
  </joint>
  <link name="rplidar_a2_0_scan"/>
  <gazebo reference="rplidar_a2_0_scan">
    <sensor name="rplidar_a2_0_scan" type="gpu_ray">
      <pose>0 0 0 0 0 0</pose>
      <visualize>false</visualize>
      <update_rate>15</update_rate>
      <ray>
        <scan>
          <horizontal>
            <samples>720</samples>
            <resolution>1</resolution>
            <min_angle>-3.14159</min_angle>
            <max_angle>+3.14159</max_angle>
          </horizontal>
        </scan>
        <range>
          <min>0.04</min>
          <max>12.0</max>
          <resolution>0.002</resolution>
        </range>
        <noise>
          <type>gaussian</type>
          <mean>0.0</mean>
          <stddev>0.008</stddev>
        </noise>
      </ray>
      <plugin filename="libgazebo_ros_gpu_laser.so" name="gazebo_ros_laser_controller">
        <topicName>topic_5</topicName>
        <frameName>rplidar_a2_0_scan</frameName>
      </plugin>
    </sensor>
  </gazebo>

  <gazebo>
    <plugin filename="libgazebo_ros_p3d.so" name="ground_truth">
      <frameName>map</frameName>
      <bodyName>base_link</bodyName>
      <topicName>odometry/base_link</topicName>
      <updateRate>2.0</updateRate>
    </plugin>
  </gazebo>

</robot>
